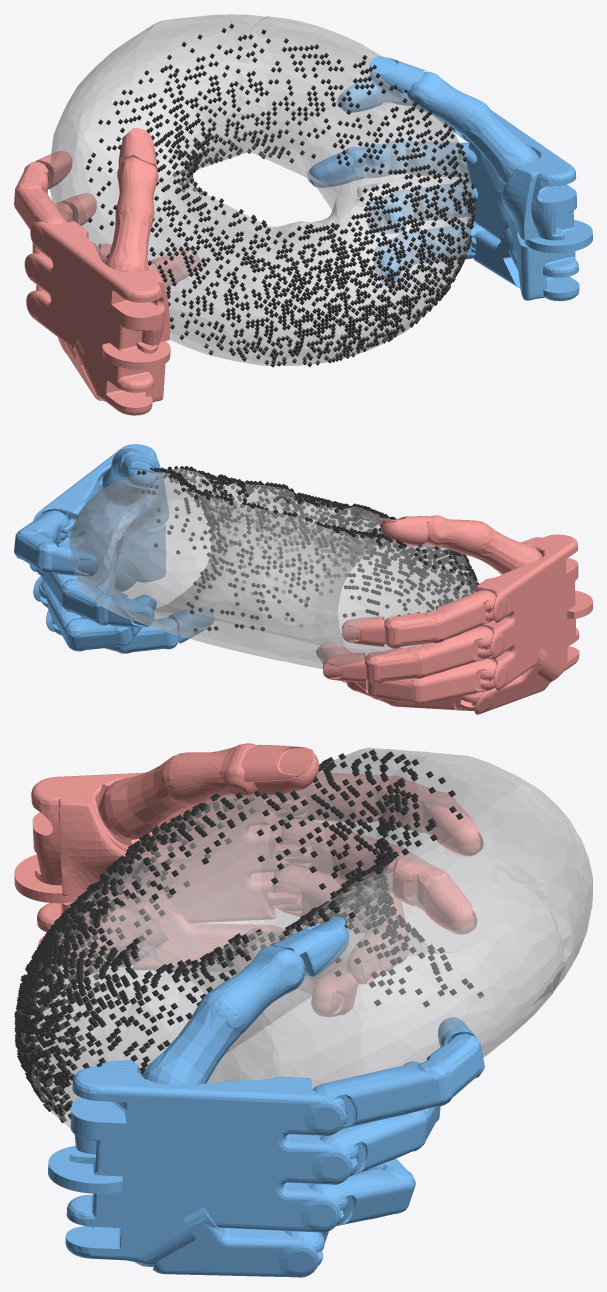
The picture shows the model from 3 angles, top to bottom: view 1: azimuth 30°, elevation 25°; view 2: azimuth 150°, elevation 25°; view 3: azimuth 270°, elevation 25°; orthographic projection. The views are drawn at different scales.
Parts seen in each view (by area): view 1: object_mesh_visualization_only, object_pointcloud, right_shadow_hand, left_shadow_hand; view 2: object_mesh_visualization_only, left_shadow_hand, right_shadow_hand, object_pointcloud; view 3: object_mesh_visualization_only, right_shadow_hand, left_shadow_hand, object_pointcloud.
Part boxes in pixels (box(x1,y1,x2,y2)): object_mesh_visualization_only: box(48, 14, 473, 365); object_pointcloud: box(85, 23, 475, 367); right_shadow_hand: box(307, 56, 592, 301); left_shadow_hand: box(14, 128, 200, 415); object_mesh_visualization_only: box(69, 468, 476, 669); left_shadow_hand: box(316, 515, 592, 714); right_shadow_hand: box(14, 444, 213, 653); object_pointcloud: box(137, 466, 478, 632); object_mesh_visualization_only: box(19, 747, 592, 1137); right_shadow_hand: box(48, 917, 484, 1277); left_shadow_hand: box(14, 743, 483, 1016); object_pointcloud: box(14, 749, 483, 1122).
Size of the model in its own units: 0.3253 by 0.1494 by 0.2395.
